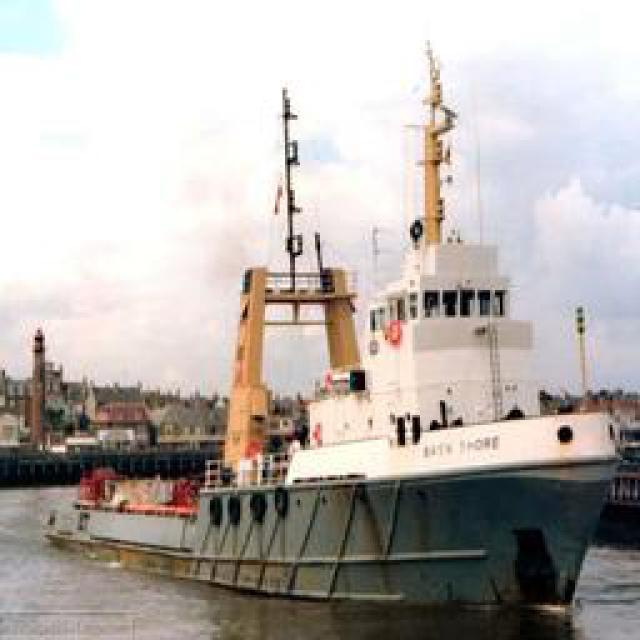Ship: (32, 92, 622, 619)
